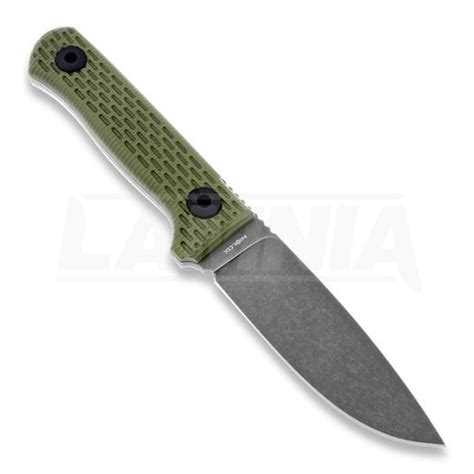knife: (24, 23, 448, 447)
